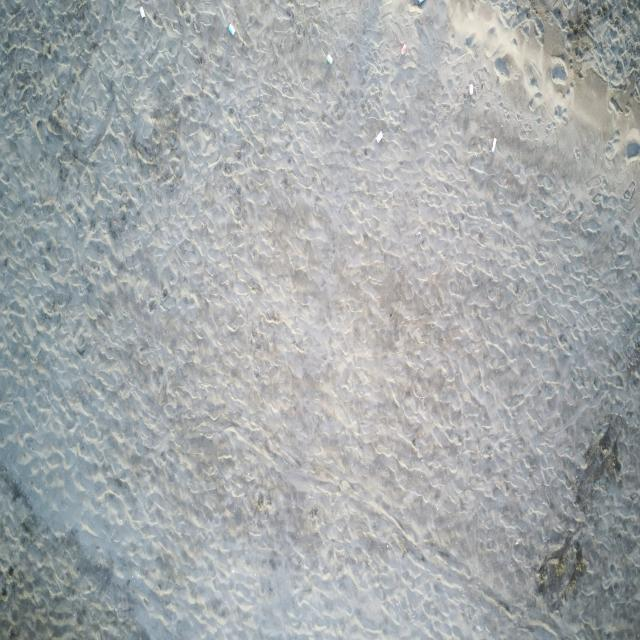tin-and-aluminum-cans: (139, 6, 146, 21), (376, 131, 384, 143), (228, 24, 236, 36), (491, 137, 497, 153), (468, 83, 474, 96), (326, 54, 333, 65), (401, 44, 406, 56)
